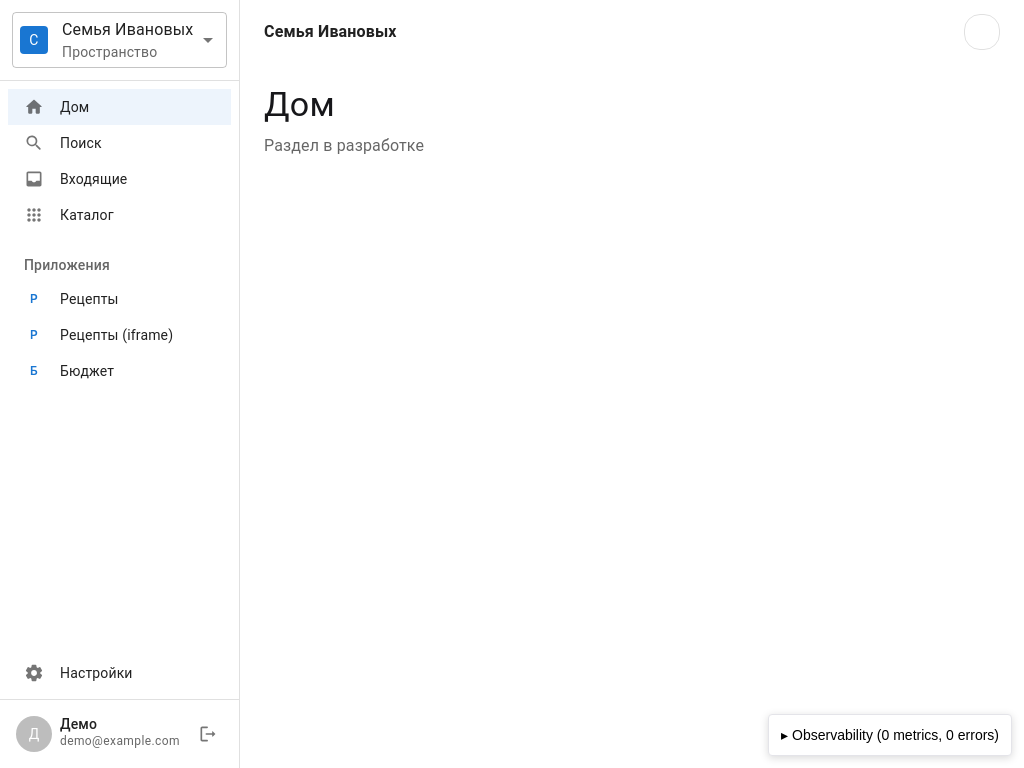
Test case: HostChrome › unloads the open app and shows the shell page when leaving the app area
This screenshot has width=1024, height=768.
Click the link "Р Рецепты" at (74, 299), box [30,291,119,307]
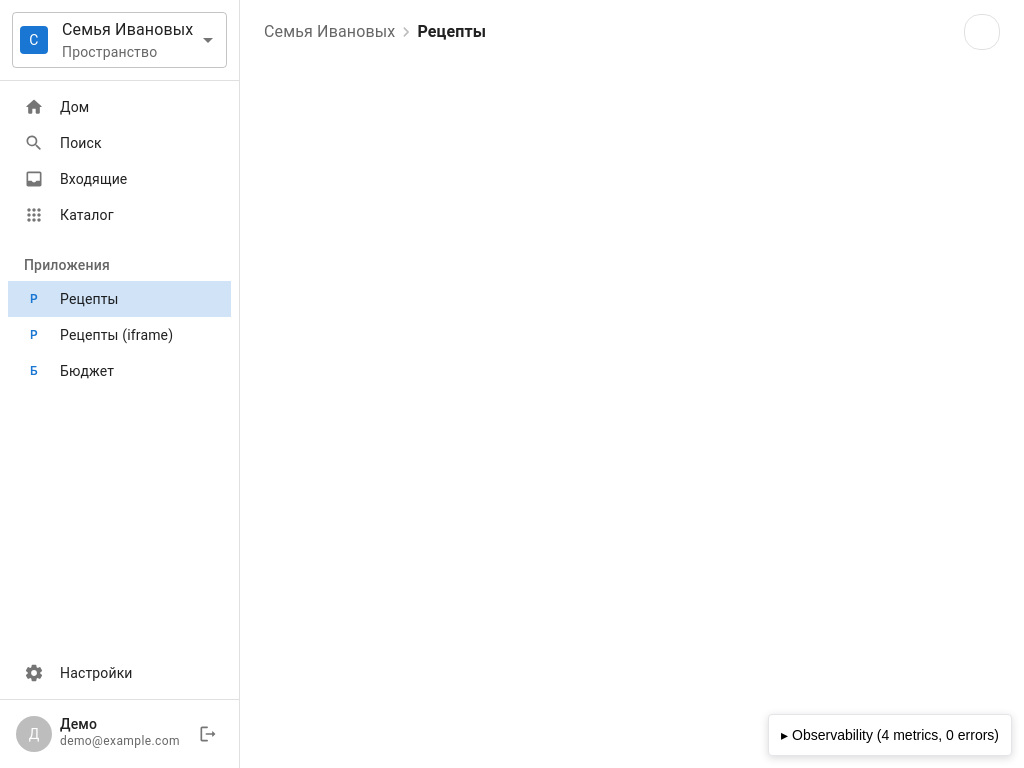
Click the link "Поиск" at (63, 143), box [24,133,102,153]
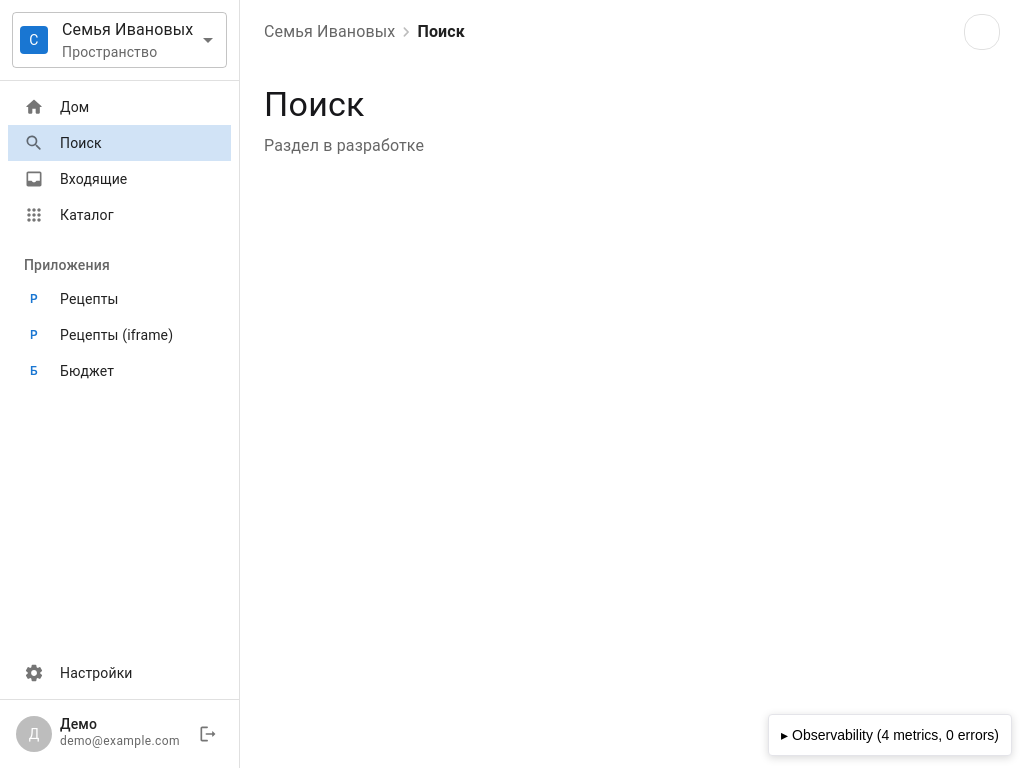
Now the heading "Поиск" is shown, box [264,84,365,124]
